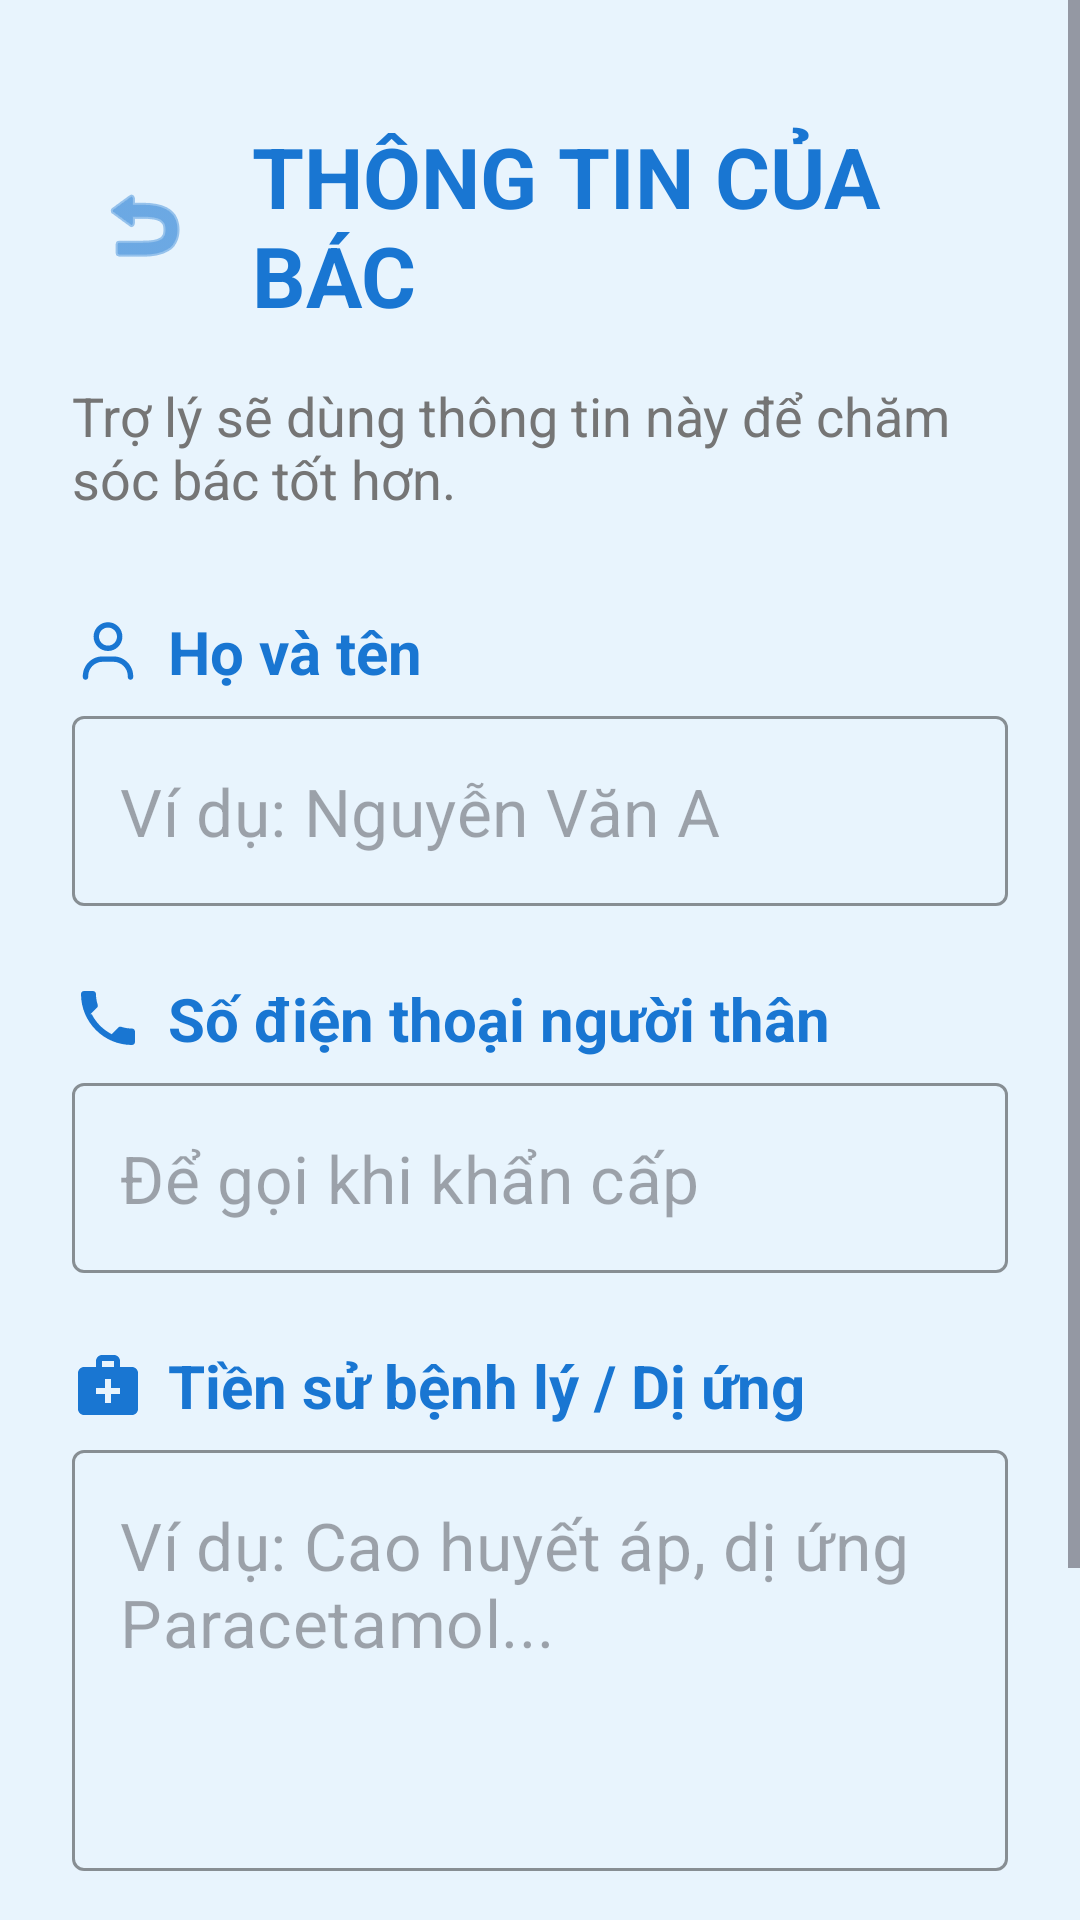

Point at icon controls on the screen. Image size 1080w x 1920h, points as (x,y).
medical briefcase: (108,1385)
phone: (108,1018)
profile: (108,651)
Quay lại: (145,225)
